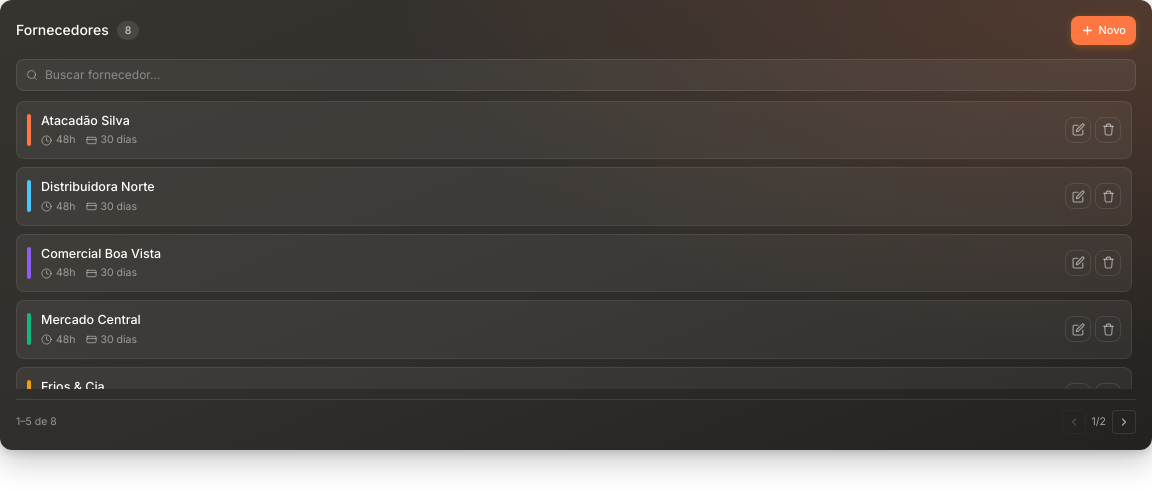
Test: FornecedoresPainel — paginação › 'próxima página' avança pro restante dos fornecedores
The width and height of the screenshot is (1152, 491).
Expected: the text "Atacadão Silva" is shown, [41, 112, 130, 130]
Click the button named "Fornecedores — próxima página". click: (1124,422)
box: [1112, 410, 1136, 434]
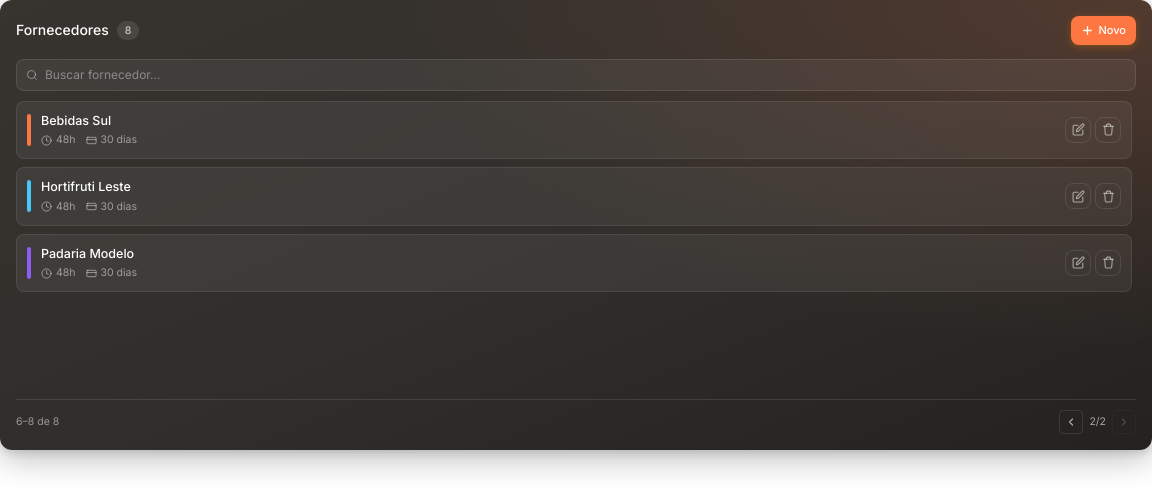
Result: the text "Bebidas Sul" is shown at [41, 112, 111, 130]
Result: the text "Hortifruti Leste" is shown at [41, 178, 131, 197]
Result: the text "Padaria Modelo" is shown at [41, 244, 134, 263]
Click the button named "Fornecedores — página anterior". click: (1071,422)
box: [1059, 410, 1083, 434]
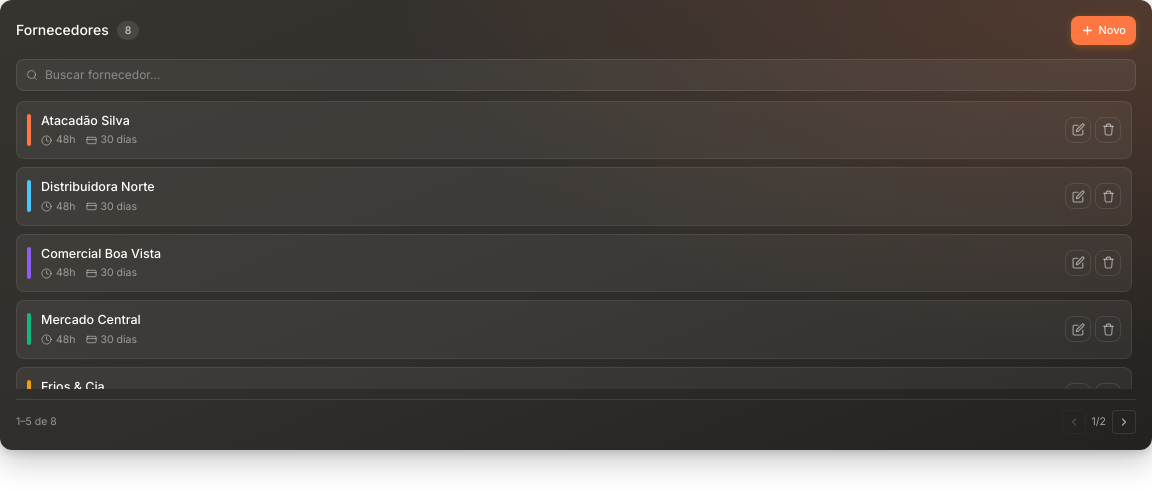
Result: the text "Atacadão Silva" is shown at [41, 112, 130, 130]
